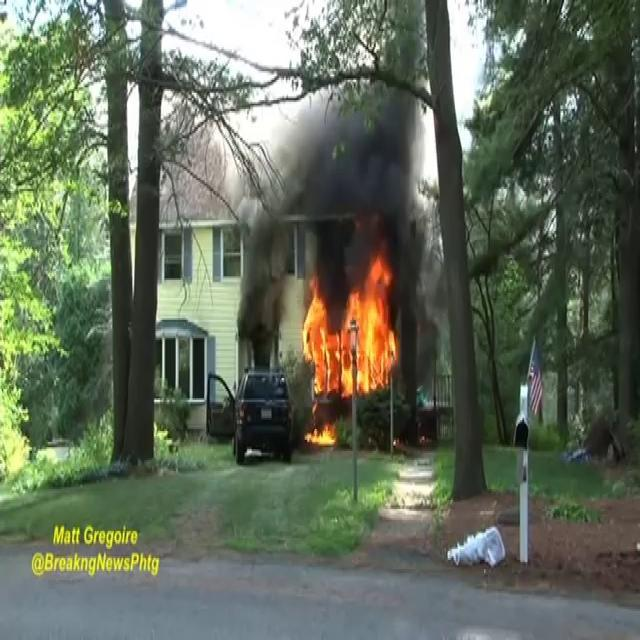Fire: (299, 256, 402, 409)
Smoke: (237, 65, 433, 322)
